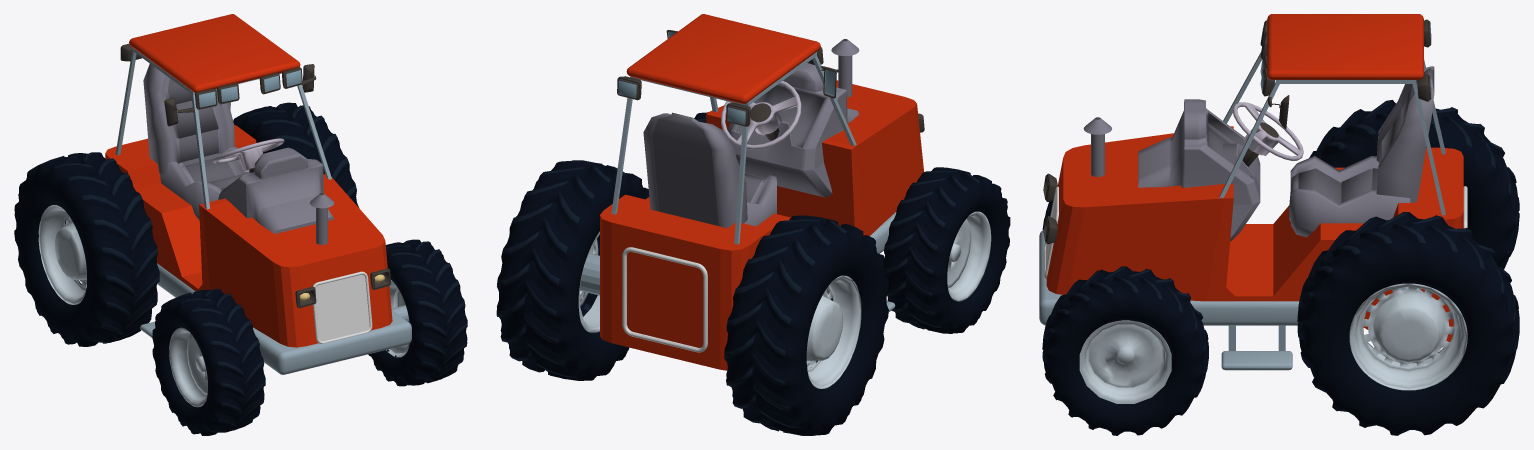
The model's file is TractorBody.fbx.
3 renders of one model, left to right at view 1: azimuth 30°, elevation 25°; view 2: azimuth 150°, elevation 25°; view 3: azimuth 270°, elevation 25°, orthographic. The views are drawn at different scales.
Parts seen in each view (by area): view 1: TractorBody, TractorWheelBR, TractorWheelFR, TractorWheelFL, TractorWheelBL, TractorSteering; view 2: TractorBody, TractorWheelBR, TractorWheelBL, TractorWheelFR, TractorSteering; view 3: TractorBody, TractorWheelBL, TractorWheelFL, TractorWheelBR, TractorSteering.
Part boxes in pixels (bbox=[...]): TractorBody: bbox=[105, 14, 411, 374]; TractorWheelBR: bbox=[14, 152, 159, 346]; TractorWheelFR: bbox=[152, 289, 265, 435]; TractorWheelFL: bbox=[368, 239, 467, 386]; TractorWheelBL: bbox=[233, 102, 359, 208]; TractorSteering: bbox=[213, 138, 284, 172]; TractorBody: bbox=[580, 14, 924, 370]; TractorWheelBR: bbox=[724, 215, 889, 435]; TractorWheelBL: bbox=[496, 160, 649, 380]; TractorWheelFR: bbox=[884, 167, 1010, 333]; TractorSteering: bbox=[721, 81, 801, 149]; TractorBody: bbox=[1039, 14, 1467, 370]; TractorWheelBL: bbox=[1297, 212, 1519, 435]; TractorWheelFL: bbox=[1042, 266, 1208, 435]; TractorWheelBR: bbox=[1309, 100, 1519, 269]; TractorSteering: bbox=[1232, 102, 1303, 166].
Bounding box in the file's own units: 5.93 × 6.1 × 8.11.
